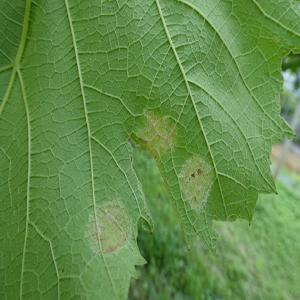Folha: (1, 0, 299, 299)
Fungo: (80, 198, 142, 270), (133, 103, 177, 167), (178, 153, 214, 217), (196, 168, 202, 176)
